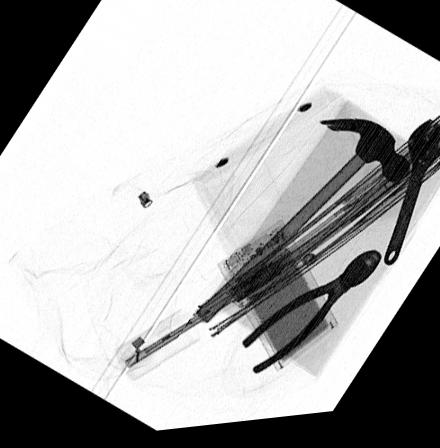Hammer: (195, 125, 410, 328)
Pliers: (241, 257, 383, 378)
Powerbank: (217, 225, 339, 378)
Wrench: (382, 128, 440, 274)
